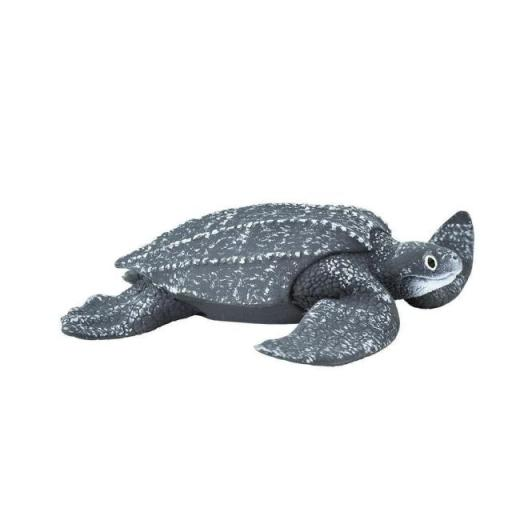turtles: (60, 202, 474, 367)
